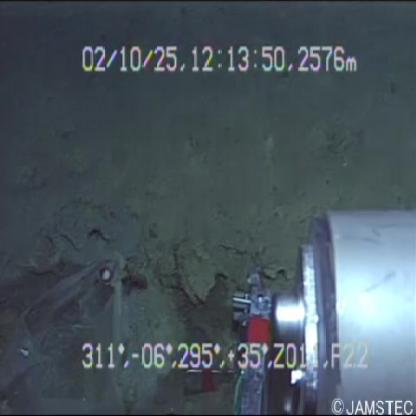Rov: (174, 179, 414, 416)
Rác: (1, 238, 141, 414)
